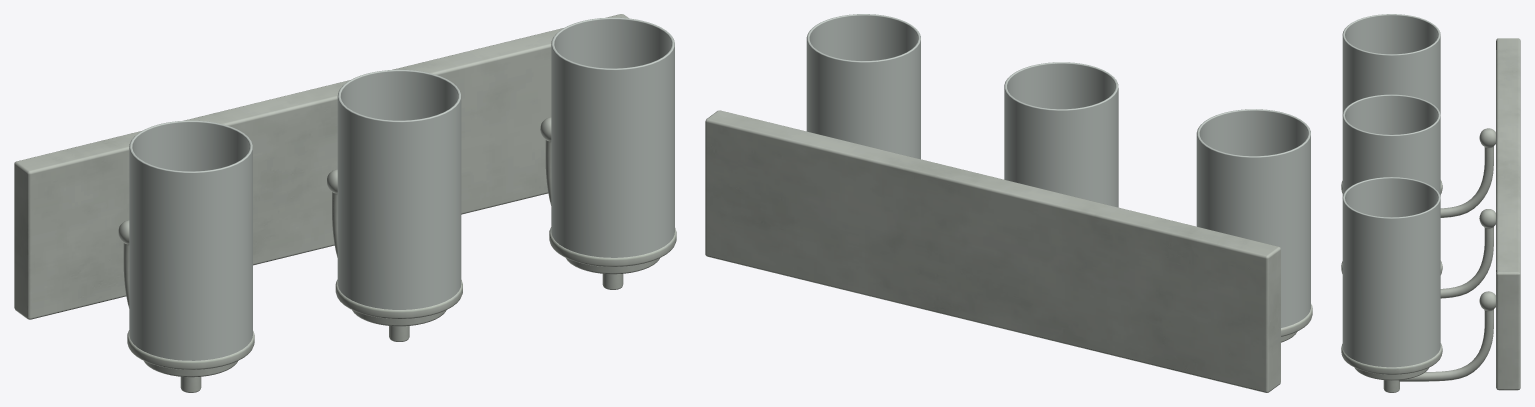
Rendered from abo-B07QJL75KJ.glb.
3 views of the same model, side by side, from view 1: azimuth 30°, elevation 25°; view 2: azimuth 150°, elevation 25°; view 3: azimuth 270°, elevation 25° (orthographic). The views are drawn at different scales.
Size of the model in its own units: 0.451 by 0.172 by 0.145.
1 material, 1 textured.
